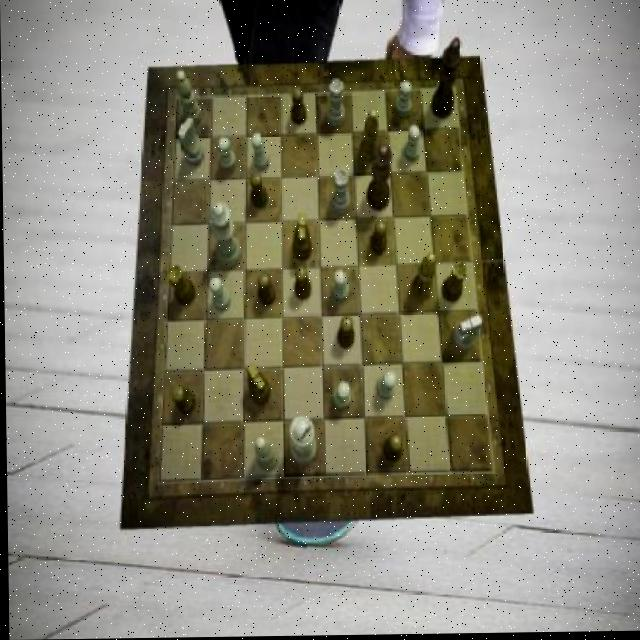bishop: (409, 255, 434, 301), (358, 109, 377, 164)
black-bishop: (428, 39, 462, 121)
black-king: (244, 363, 268, 406), (291, 215, 311, 263)
black-knight: (171, 385, 194, 417), (249, 172, 267, 209), (335, 317, 353, 352), (370, 220, 388, 255), (289, 87, 305, 126), (292, 266, 310, 300), (256, 274, 274, 308), (381, 436, 401, 463)
black-pawn: (364, 145, 392, 213)
black-queen: (166, 266, 194, 307), (440, 264, 467, 304)
black-rook: (176, 70, 201, 125), (254, 437, 278, 472)
white-bishop: (287, 416, 315, 468)
white-king: (177, 118, 203, 167), (451, 316, 481, 352)
white-knight: (209, 277, 230, 314), (250, 134, 268, 172), (402, 126, 419, 164), (218, 139, 236, 174), (394, 83, 411, 119), (330, 271, 348, 304), (375, 373, 396, 400), (332, 384, 350, 411)
white-pawn: (209, 203, 240, 270)
white-queen: (325, 81, 345, 128), (331, 170, 350, 215)
